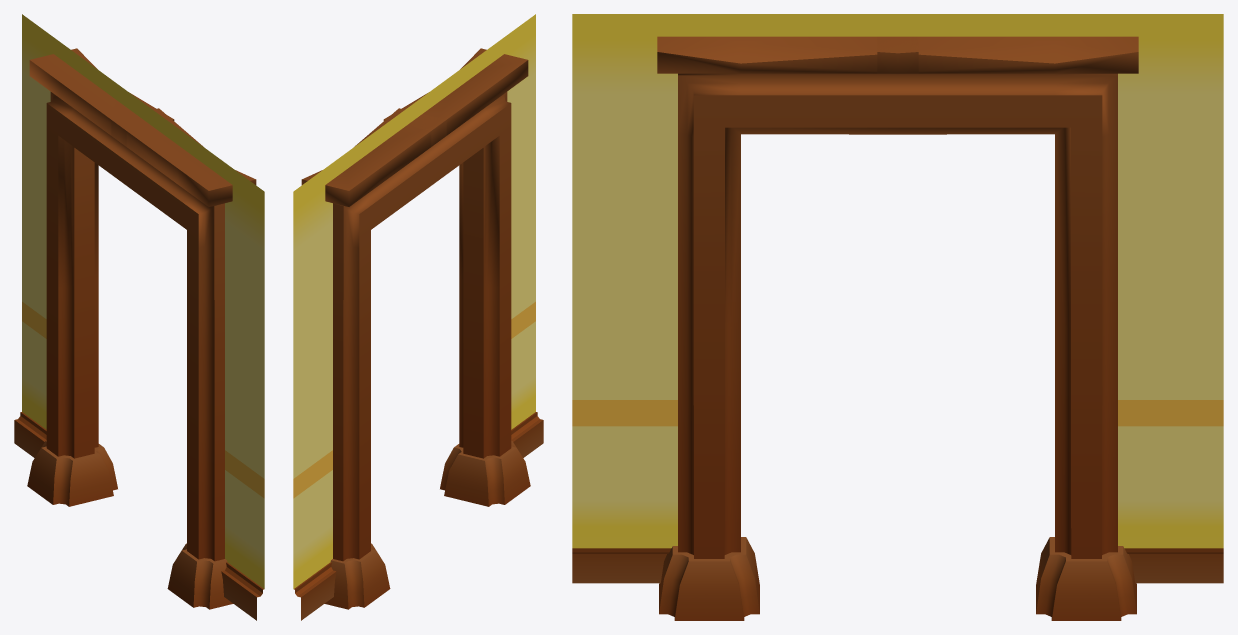
Rendered from ST_DoorWay.fbx.
3 renders of one model, left to right at view 1: azimuth 30°, elevation 25°; view 2: azimuth 150°, elevation 25°; view 3: azimuth 270°, elevation 25°, orthographic. The views are drawn at different scales.
Visible parts, largest first — view 1: ST_DoorWay; view 2: ST_DoorWay; view 3: ST_DoorWay.
Boxes of the visible parts, x1,y1,x2,y2 form: ST_DoorWay: (14, 14, 264, 620); ST_DoorWay: (293, 14, 543, 620); ST_DoorWay: (572, 14, 1223, 620).
Bounding box in the file's own units: 30.98 × 198 × 200.
